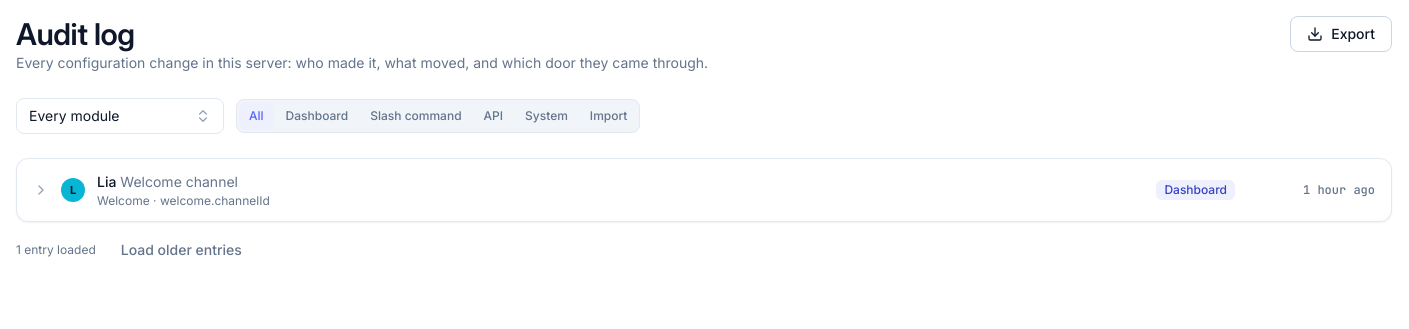
AuditScreen › appends the next page instead of replacing what is on screen
This screenshot has width=1409, height=329.
Click the button "Load older entries" at (181, 250), box top-left (108, 234), bottom-right (255, 266)
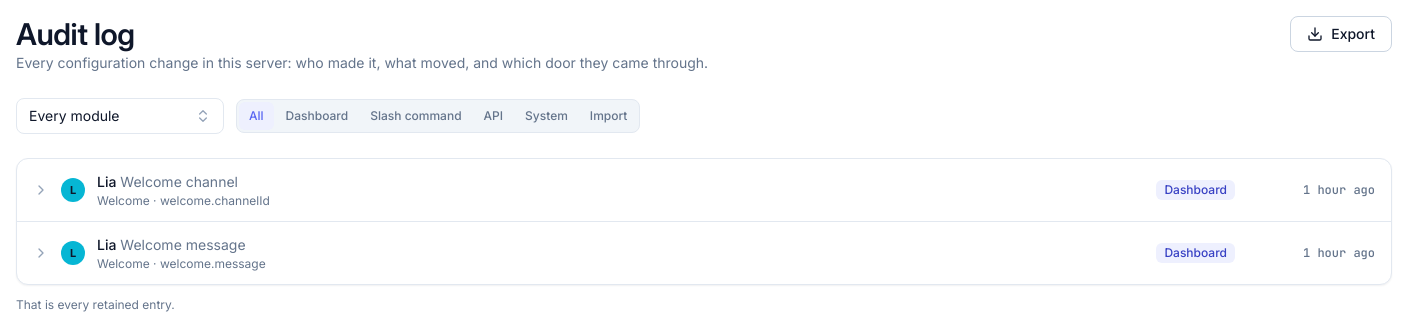
Expected: the text "Welcome channel" is shown, top-left (120, 173), bottom-right (238, 190)
Expected: the text "Welcome message" is shown, top-left (120, 236), bottom-right (246, 253)
